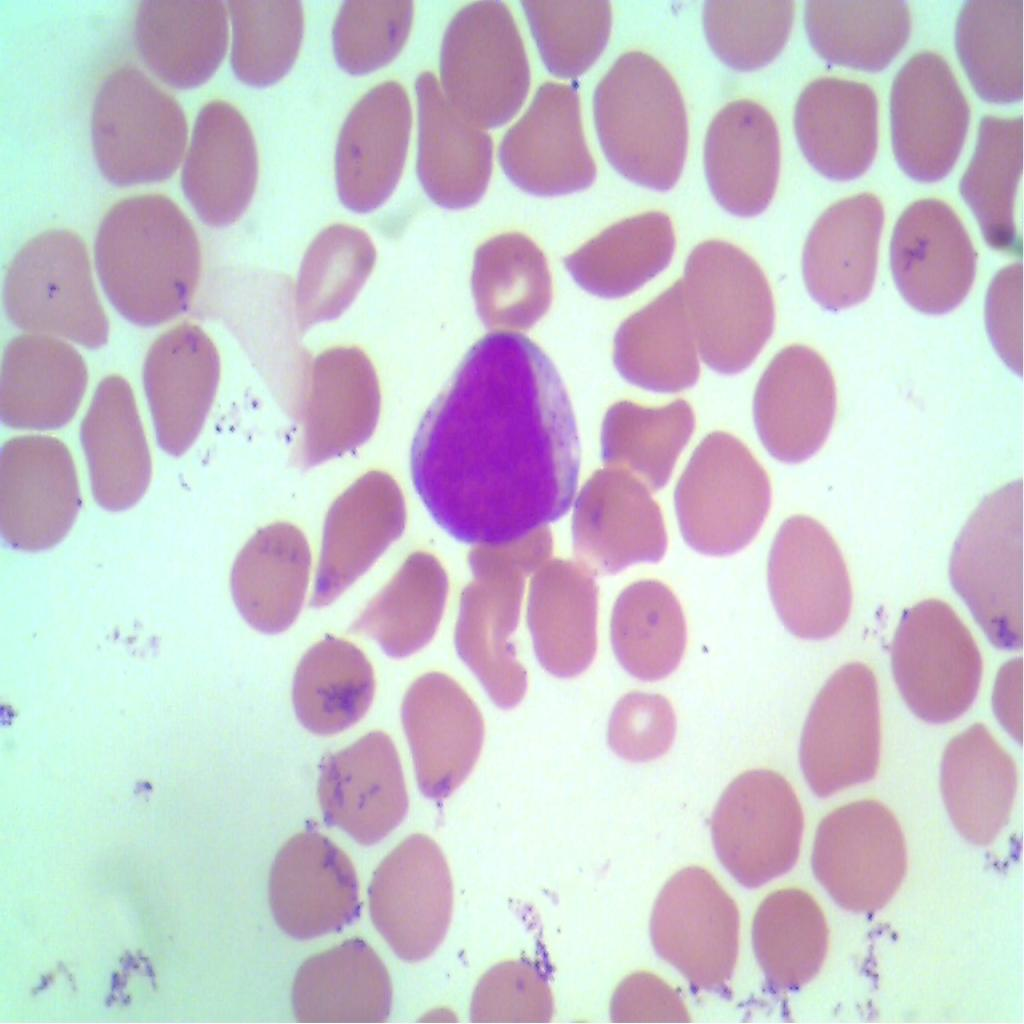Eritrosit: (595, 38, 702, 196), (95, 192, 204, 325), (888, 594, 989, 732), (395, 665, 495, 804), (0, 224, 111, 349), (744, 335, 846, 470), (255, 820, 363, 947), (402, 74, 498, 214), (138, 310, 224, 465), (800, 648, 886, 801), (563, 461, 675, 577), (215, 509, 315, 638), (673, 428, 773, 557), (278, 346, 394, 456), (700, 764, 806, 884), (498, 78, 595, 208), (322, 81, 410, 224), (886, 188, 978, 324), (928, 714, 1014, 858), (691, 94, 781, 230), (650, 854, 744, 984), (682, 239, 776, 368), (81, 370, 163, 517), (283, 212, 386, 328), (608, 275, 701, 401), (884, 52, 970, 188), (769, 504, 858, 634), (519, 552, 608, 682), (809, 797, 903, 917), (371, 835, 462, 958), (786, 68, 880, 186), (308, 479, 406, 592), (600, 572, 698, 685), (592, 388, 698, 492), (88, 70, 184, 184), (437, 0, 528, 118), (283, 632, 379, 742), (0, 431, 82, 559), (352, 550, 450, 657), (746, 882, 835, 999), (798, 0, 929, 77), (319, 738, 418, 839), (288, 930, 394, 1023), (0, 332, 95, 435), (184, 108, 266, 227), (799, 194, 879, 314), (464, 231, 555, 332), (564, 211, 676, 287), (135, 0, 236, 82), (601, 684, 688, 771), (224, 4, 310, 92), (326, 0, 426, 74), (961, 5, 1023, 122), (706, 0, 794, 74), (531, 0, 613, 71)
Limfoblast: (403, 331, 583, 547)
